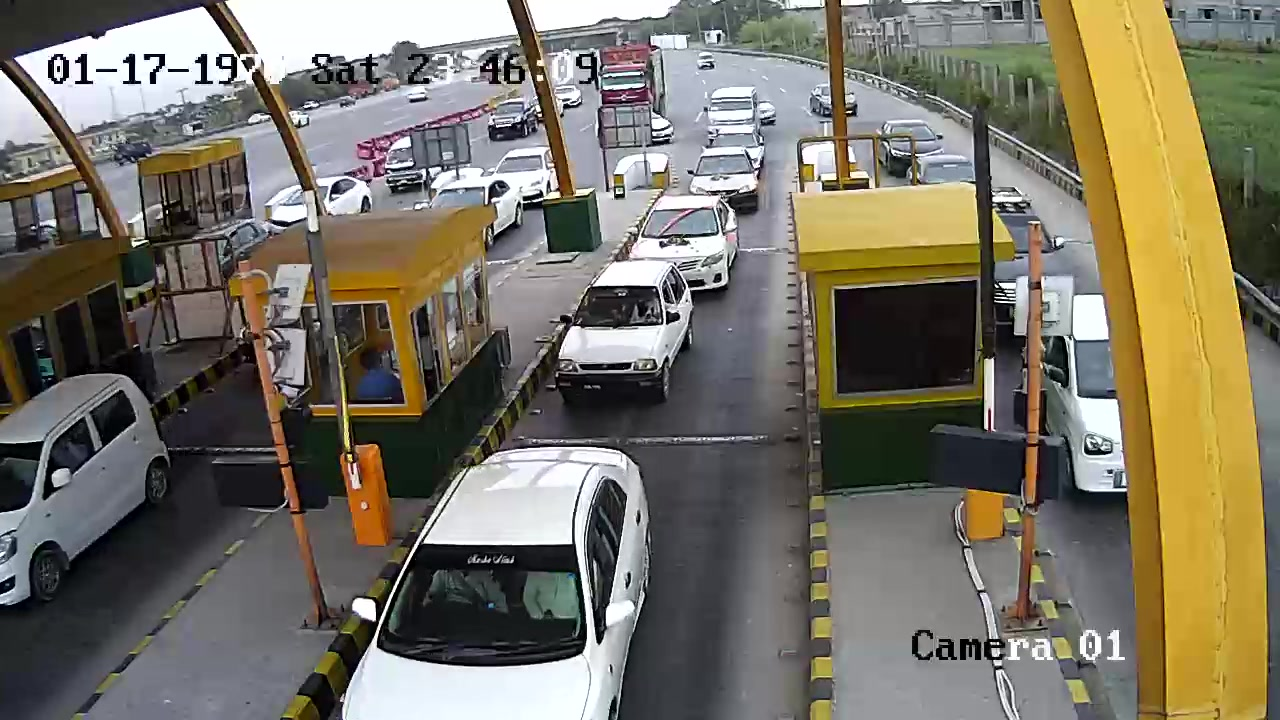F1: (544, 260, 703, 416)
